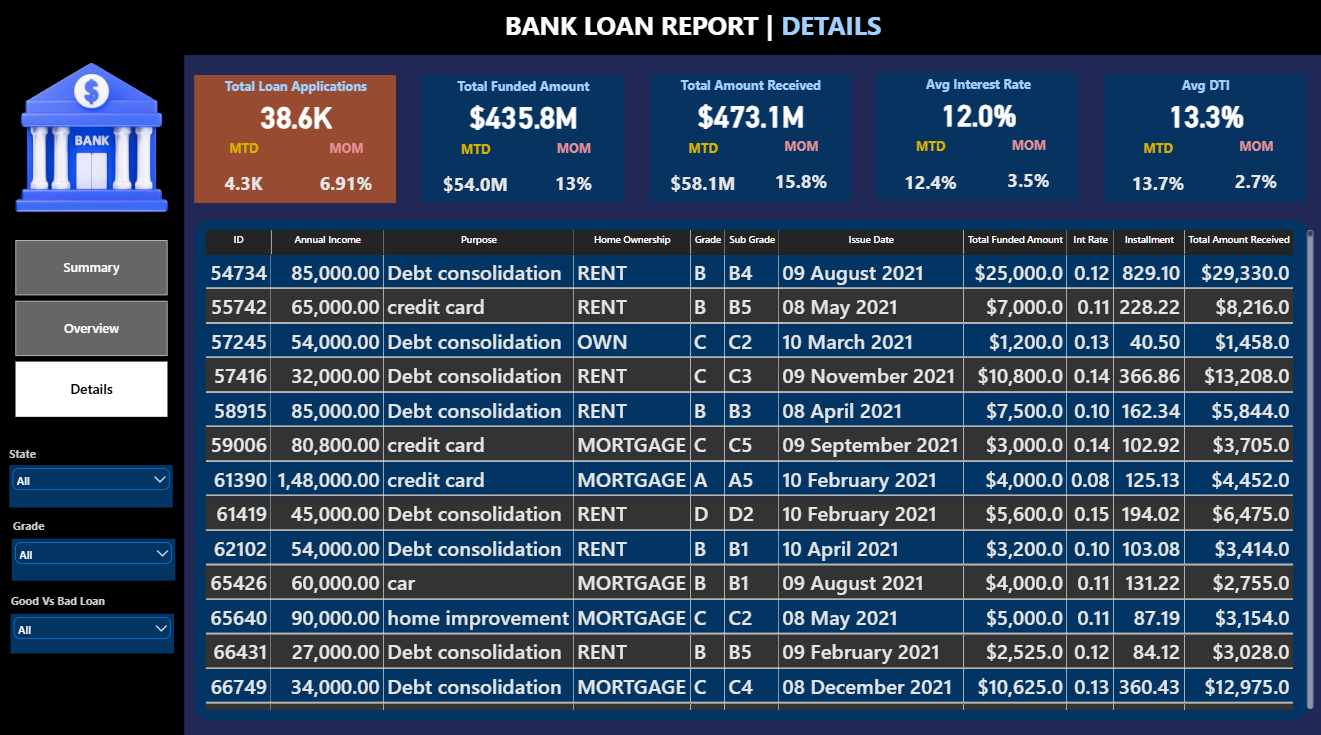

Layout of this report page (visuals, bound fields, positions):
{"tool":"powerbi","page":{"name":"Details","canvas":[1920,1080],"ordinal":2},"visuals":[{"type":"shape","box":[1272.6,112.2,292.2,185.2],"z":0,"group":"g4"},{"type":"shape","box":[943.7,114,292.2,185.2],"z":0,"group":"g3"},{"type":"shape","box":[1601.5,114,292.2,185.2],"z":0,"group":"g5"},{"type":"shape","box":[284.1,115.8,292.2,185.2],"z":0,"group":"g1"},{"type":"shape","box":[613,115.8,292.2,185.2],"z":0,"group":"g2"},{"type":"shape","box":[284.1,325.7,1612.4,723.9],"z":0},{"type":"slicer","fields":{"Values":["bank_loan_data.grade"]},"box":[19.9,787.6,237.1,60.8],"z":0,"group":"g7"},{"type":"slicer","fields":{"Values":["bank_loan_data.Good Vs Bad Loan"]},"box":[17.8,895.4,237.1,57.3],"z":0,"group":"g9"},{"type":"shape","box":[0,0,1920.1,86.9],"z":1000},{"type":"cardVisual","fields":{"Data":["bank_loan_data.Avg Intrest Rate"]},"box":[1324.5,145.3,190.5,59.5],"z":1000,"group":"g4"},{"type":"cardVisual","fields":{"Data":["bank_loan_data.Total Amount Received"]},"box":[995.6,147.1,190.5,59.5],"z":1000,"group":"g3"},{"type":"cardVisual","fields":{"Data":["bank_loan_data.Avg DTI"]},"box":[1653.4,147.1,190.5,59.5],"z":1000,"group":"g5"},{"type":"cardVisual","fields":{"Data":["bank_loan_data.Total Loan Applications"]},"box":[336,148.9,190.5,59.5],"z":1000,"group":"g1"},{"type":"cardVisual","fields":{"Data":["bank_loan_data.Total Funded Amount"]},"box":[664.9,148.9,190.5,59.5],"z":1000,"group":"g2"},{"type":"textbox","box":[14.5,756.1,59.7,31.5],"z":1000,"group":"g7"},{"type":"textbox","box":[16.3,864.7,141.2,25.7],"z":1000,"group":"g9"},{"type":"shape","box":[0,86.9,269.6,993.5],"z":2000},{"type":"textbox","box":[1272.6,116.6,294.3,28.7],"z":2000,"group":"g4"},{"type":"textbox","box":[943.7,118.4,294.3,28.7],"z":2000,"group":"g3"},{"type":"textbox","box":[1601.5,118.4,294.3,28.7],"z":2000,"group":"g5"},{"type":"textbox","box":[284.1,120.2,294.3,28.7],"z":2000,"group":"g1"},{"type":"textbox","box":[613,120.2,294.3,28.7],"z":2000,"group":"g2"},{"type":"group","id":"g1","title":"Group 1","box":[284.1,115.8,293.2,186.4],"z":3000},{"type":"cardVisual","title":"MTD","fields":{"Data":["bank_loan_data.MTD Avg Intrest Rate"]},"box":[1287.9,206.4,127.6,86.4],"z":3000,"group":"g4"},{"type":"cardVisual","title":"MTD","fields":{"Data":["bank_loan_data.MTD Total Amount Recieved"]},"box":[959,208.2,127.6,86.4],"z":3000,"group":"g3"},{"type":"cardVisual","title":"MTD","fields":{"Data":["bank_loan_data.MTD Avg DTI"]},"box":[1616.8,208.2,127.6,86.4],"z":3000,"group":"g5"},{"type":"cardVisual","title":"MTD","fields":{"Data":["bank_loan_data.MTD Loan Applications"]},"box":[299.2,208.4,114.7,83.8],"z":3000,"group":"g1"},{"type":"cardVisual","title":"MTD","fields":{"Data":["bank_loan_data.MTD Funded Amount"]},"box":[628.3,210,127.6,86.4],"z":3000,"group":"g2"},{"type":"group","id":"g2","title":"Group 1","box":[613,115.8,295,186.4],"z":4000},{"type":"cardVisual","title":"MOM","fields":{"Data":["bank_loan_data.MOM Avg Intrest Rate"]},"box":[1434.9,204.8,114.7,83.8],"z":4000,"group":"g4"},{"type":"cardVisual","title":"MOM","fields":{"Data":["bank_loan_data.MOM Total Recieved Amount"]},"box":[1106,206.6,114.7,83.8],"z":4000,"group":"g3"},{"type":"cardVisual","title":"MOM","fields":{"Data":["bank_loan_data.MOM Avg DTI"]},"box":[1763.8,206.6,114.7,83.8],"z":4000,"group":"g5"},{"type":"cardVisual","title":"MOM","fields":{"Data":["bank_loan_data.MOM Loan Applications"]},"box":[446.4,208.4,114.7,83.8],"z":4000,"group":"g1"},{"type":"cardVisual","title":"MOM","fields":{"Data":["bank_loan_data.MOM Total Funded Amount"]},"box":[775.3,208.4,114.7,83.8],"z":4000,"group":"g2"},{"type":"textbox","box":[16.3,653,45.2,27.4],"z":4000,"group":"g6"},{"type":"group","id":"g3","title":"Group 1","box":[943.7,114,293.2,186.4],"z":5000},{"type":"group","id":"g4","title":"Group 1","box":[1272.6,112.2,293.2,186.4],"z":6000},{"type":"group","id":"g5","title":"Group 1","box":[1601.5,114,295,186.4],"z":7000},{"type":"textbox","box":[0,18.1,1920.1,50.7],"z":8000},{"type":"group","id":"g6","title":"Group 2","box":[16.3,653,237.1,88.7],"z":9000},{"type":"group","id":"g7","title":"Group 3","box":[14.5,756.1,242.5,92.3],"z":10000},{"type":"group","id":"g8","title":"Group 4","box":[16.3,864.7,238.9,88.7],"z":11000},{"type":"tableEx","fields":{"Values":["bank_loan_data.id","Sum(bank_loan_data.annual_income)","bank_loan_data.purpose","bank_loan_data.home_ownership","bank_loan_data.grade","bank_loan_data.sub_grade","bank_loan_data.issue_date","bank_loan_data.Total Funded Amount","Sum(bank_loan_data.int_rate)","Sum(bank_loan_data.installment)","bank_loan_data.Total Amount Received"]},"box":[284.1,325.7,1635.9,723.9],"z":12000},{"type":"image","box":[25.3,86.9,220.8,237.1],"z":13000},{"type":"pageNavigator","box":[25.3,354.7,220.8,257],"z":14000},{"type":"group","id":"g9","title":"Group 6","box":[16.3,864.7,238.6,87.9],"z":21003,"group":"g8"},{"type":"slicer","fields":{"Values":["bank_loan_data.address_state"]},"box":[16.3,680.4,237.1,61.2],"z":22000,"group":"g6"}]}

Visuals, with their boxes in screenshot pixels (x1, y1, x2, y2), scaled from the page's 1920x1080 canvas onto the 1321x735 screenshot:
shape: bbox(876, 76, 1077, 202)
shape: bbox(649, 78, 850, 204)
shape: bbox(1102, 78, 1303, 204)
shape: bbox(195, 79, 397, 205)
shape: bbox(422, 79, 623, 205)
shape: bbox(195, 222, 1305, 714)
slicer - bank_loan_data.grade: bbox(14, 536, 177, 577)
slicer - bank_loan_data.Good Vs Bad Loan: bbox(12, 609, 175, 648)
shape: bbox(0, 0, 1320, 59)
cardVisual - bank_loan_data.Avg Intrest Rate: bbox(911, 99, 1042, 139)
cardVisual - bank_loan_data.Total Amount Received: bbox(685, 100, 816, 141)
cardVisual - bank_loan_data.Avg DTI: bbox(1138, 100, 1269, 141)
cardVisual - bank_loan_data.Total Loan Applications: bbox(231, 101, 362, 142)
cardVisual - bank_loan_data.Total Funded Amount: bbox(457, 101, 589, 142)
textbox: bbox(10, 515, 51, 536)
textbox: bbox(11, 588, 108, 606)
shape: bbox(0, 59, 185, 734)
textbox: bbox(876, 79, 1078, 99)
textbox: bbox(649, 81, 852, 100)
textbox: bbox(1102, 81, 1304, 100)
textbox: bbox(195, 82, 398, 101)
textbox: bbox(422, 82, 624, 101)
"Group 1" group: bbox(195, 79, 397, 206)
"MTD" cardVisual: bbox(886, 140, 974, 199)
"MTD" cardVisual: bbox(660, 142, 748, 200)
"MTD" cardVisual: bbox(1112, 142, 1200, 200)
"MTD" cardVisual: bbox(206, 142, 285, 199)
"MTD" cardVisual: bbox(432, 143, 520, 202)
"Group 1" group: bbox(422, 79, 625, 206)
"MOM" cardVisual: bbox(987, 139, 1066, 196)
"MOM" cardVisual: bbox(761, 141, 840, 198)
"MOM" cardVisual: bbox(1214, 141, 1292, 198)
"MOM" cardVisual: bbox(307, 142, 386, 199)
"MOM" cardVisual: bbox(533, 142, 612, 199)
textbox: bbox(11, 444, 42, 463)
"Group 1" group: bbox(649, 78, 851, 204)
"Group 1" group: bbox(876, 76, 1077, 203)
"Group 1" group: bbox(1102, 78, 1305, 204)
textbox: bbox(0, 12, 1320, 47)
"Group 2" group: bbox(11, 444, 174, 505)
"Group 3" group: bbox(10, 515, 177, 577)
"Group 4" group: bbox(11, 588, 176, 649)
tableEx - bank_loan_data.id x Sum(bank_loan_data.annual_income): bbox(195, 222, 1320, 714)
image: bbox(17, 59, 169, 220)
pageNavigator: bbox(17, 241, 169, 416)
"Group 6" group: bbox(11, 588, 175, 648)
slicer - bank_loan_data.address_state: bbox(11, 463, 174, 505)
